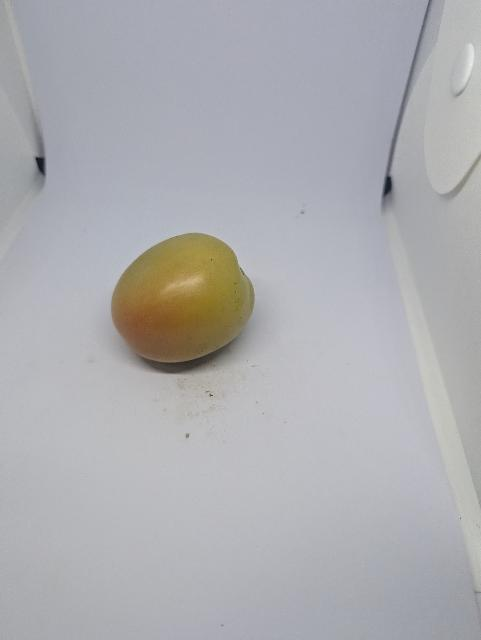breaker: (109, 232, 258, 370)
